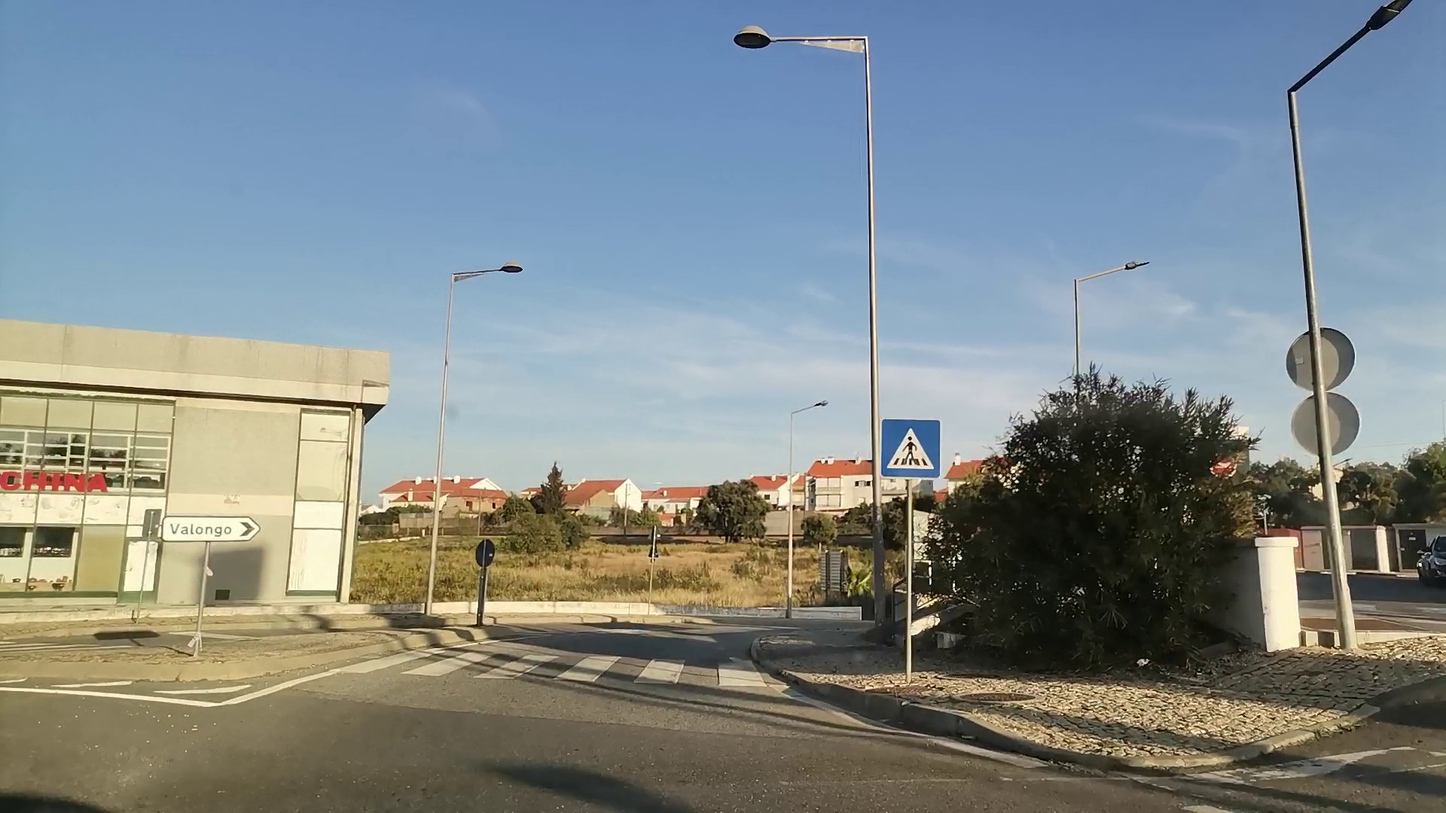Stairs: (336, 644, 777, 694)
